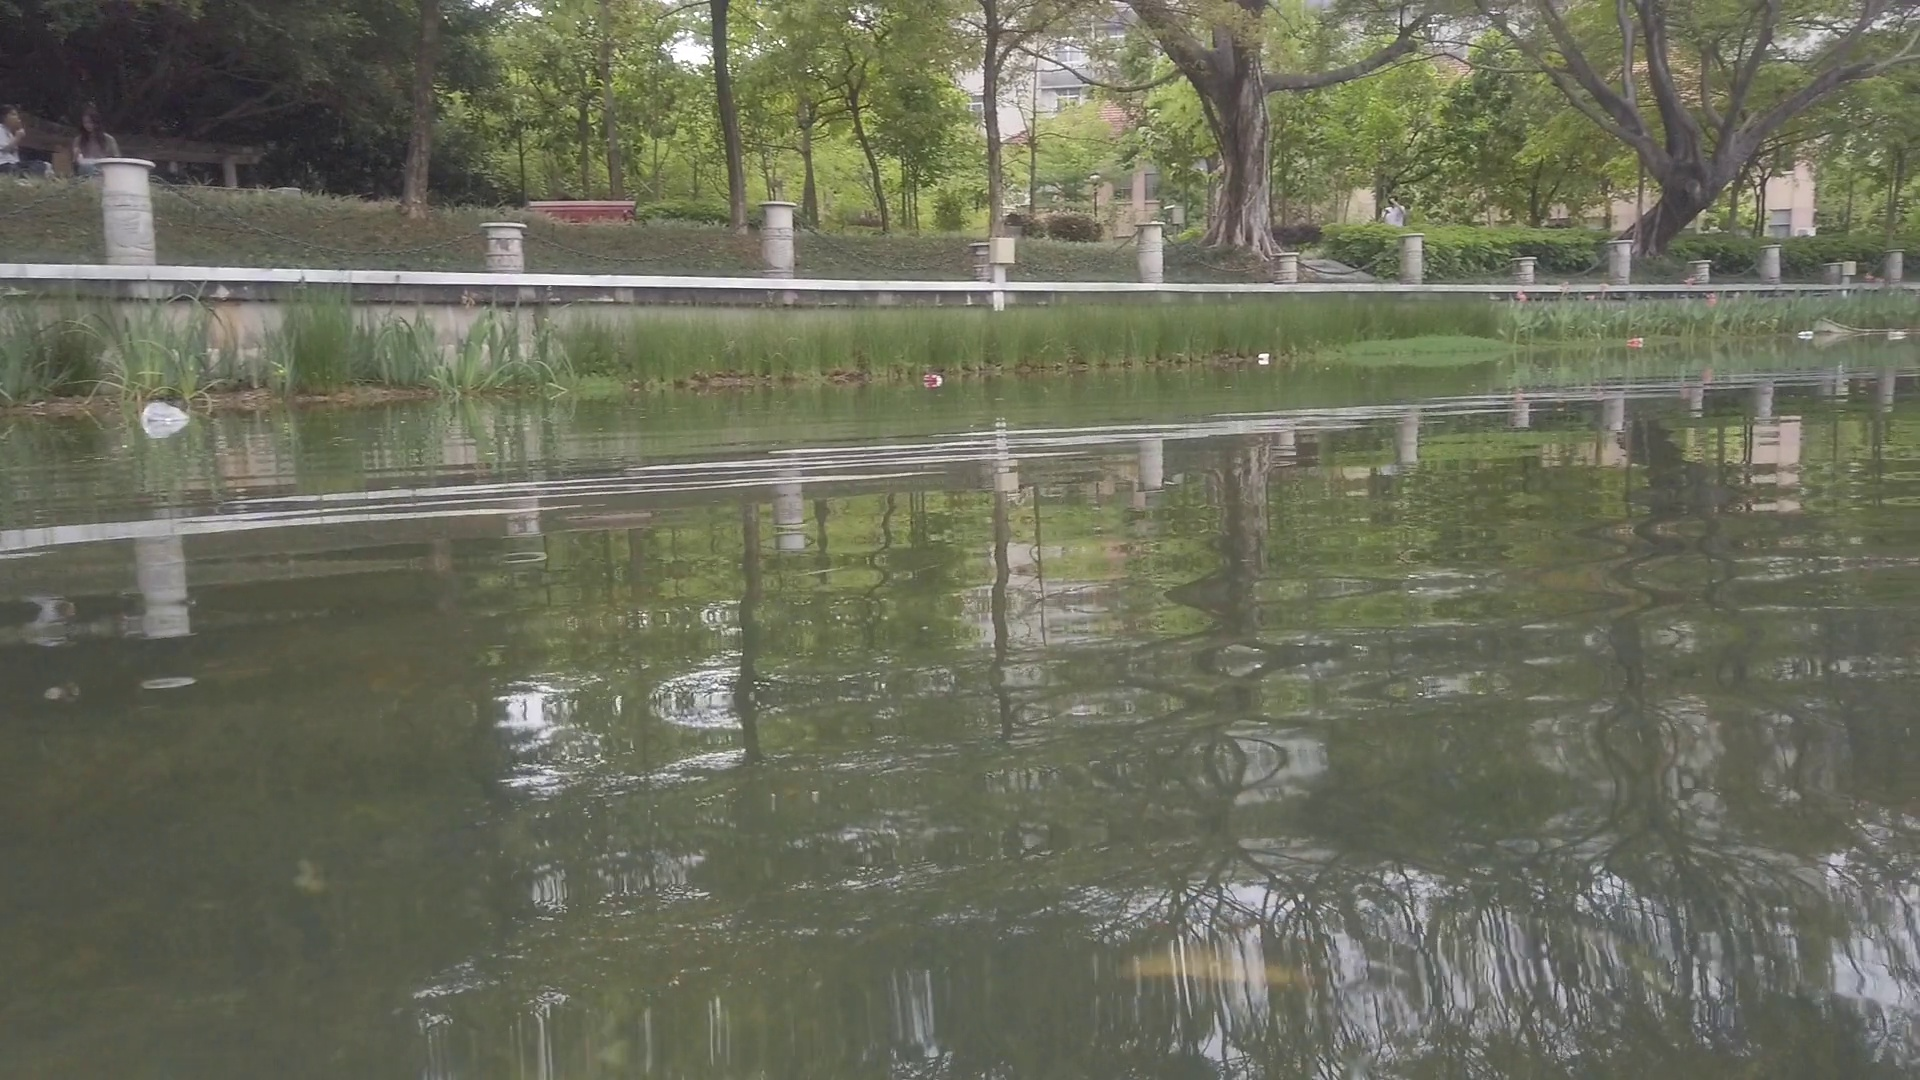bottle: (923, 372, 943, 384), (1888, 331, 1905, 339), (1799, 328, 1815, 336), (1627, 336, 1642, 344)
carton: (1257, 353, 1269, 361)
plastic: (142, 404, 190, 425)
